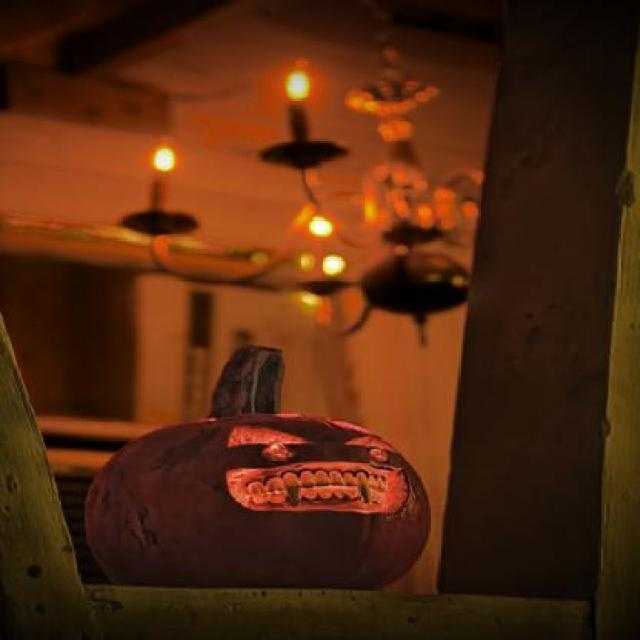Pumpkin: (81, 339, 430, 590)
